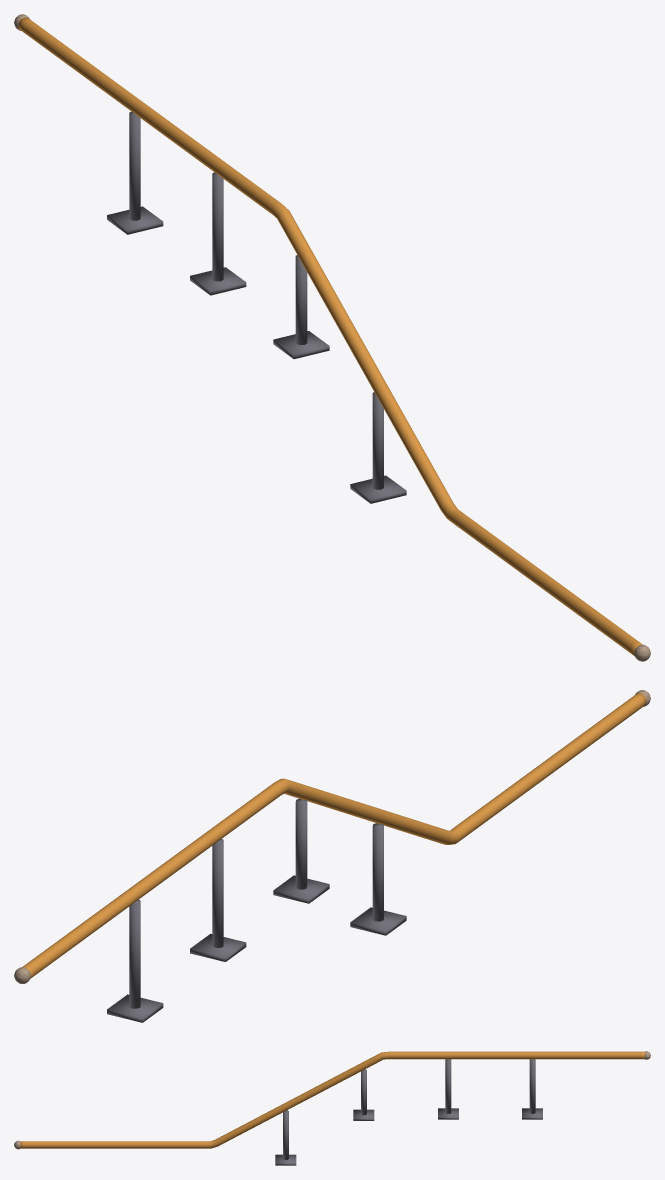
File: Rail_Kink.glb
3 views of the same model, one above another, from view 1: azimuth 30°, elevation 25°; view 2: azimuth 150°, elevation 25°; view 3: azimuth 270°, elevation 25° (orthographic). The views are drawn at different scales.
Visible parts, largest first — view 1: Rail_Kink_Rail; view 2: Rail_Kink_Rail; view 3: Rail_Kink_Rail.
Boxes of the visible parts, <box> form: Rail_Kink_Rail: <box>18,17,642,656</box>; Rail_Kink_Rail: <box>22,693,646,1022</box>; Rail_Kink_Rail: <box>20,1051,644,1165</box>.
Size of the model in its own units: 0.2799 by 1.62 by 8.52.
2 materials, 1 textured.
